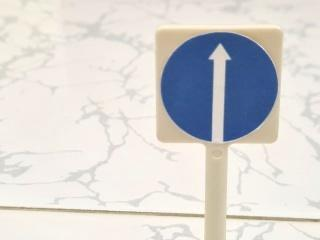straight: (154, 28, 281, 143)
